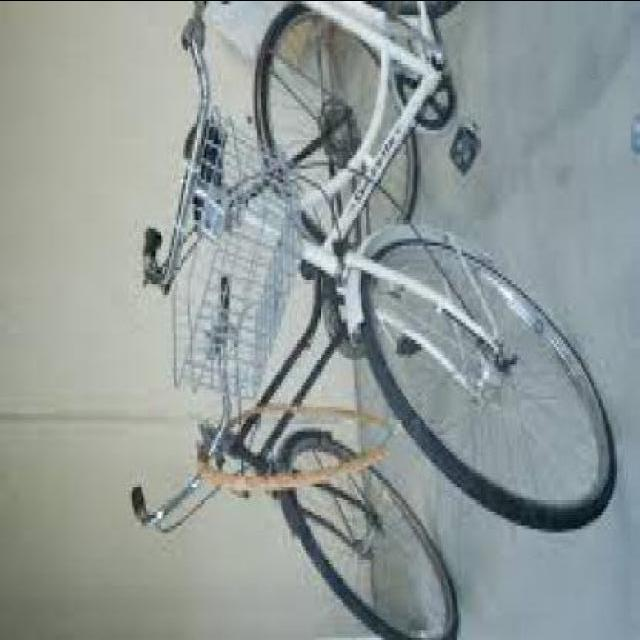bicycle: (144, 4, 632, 553), (113, 5, 437, 634)
